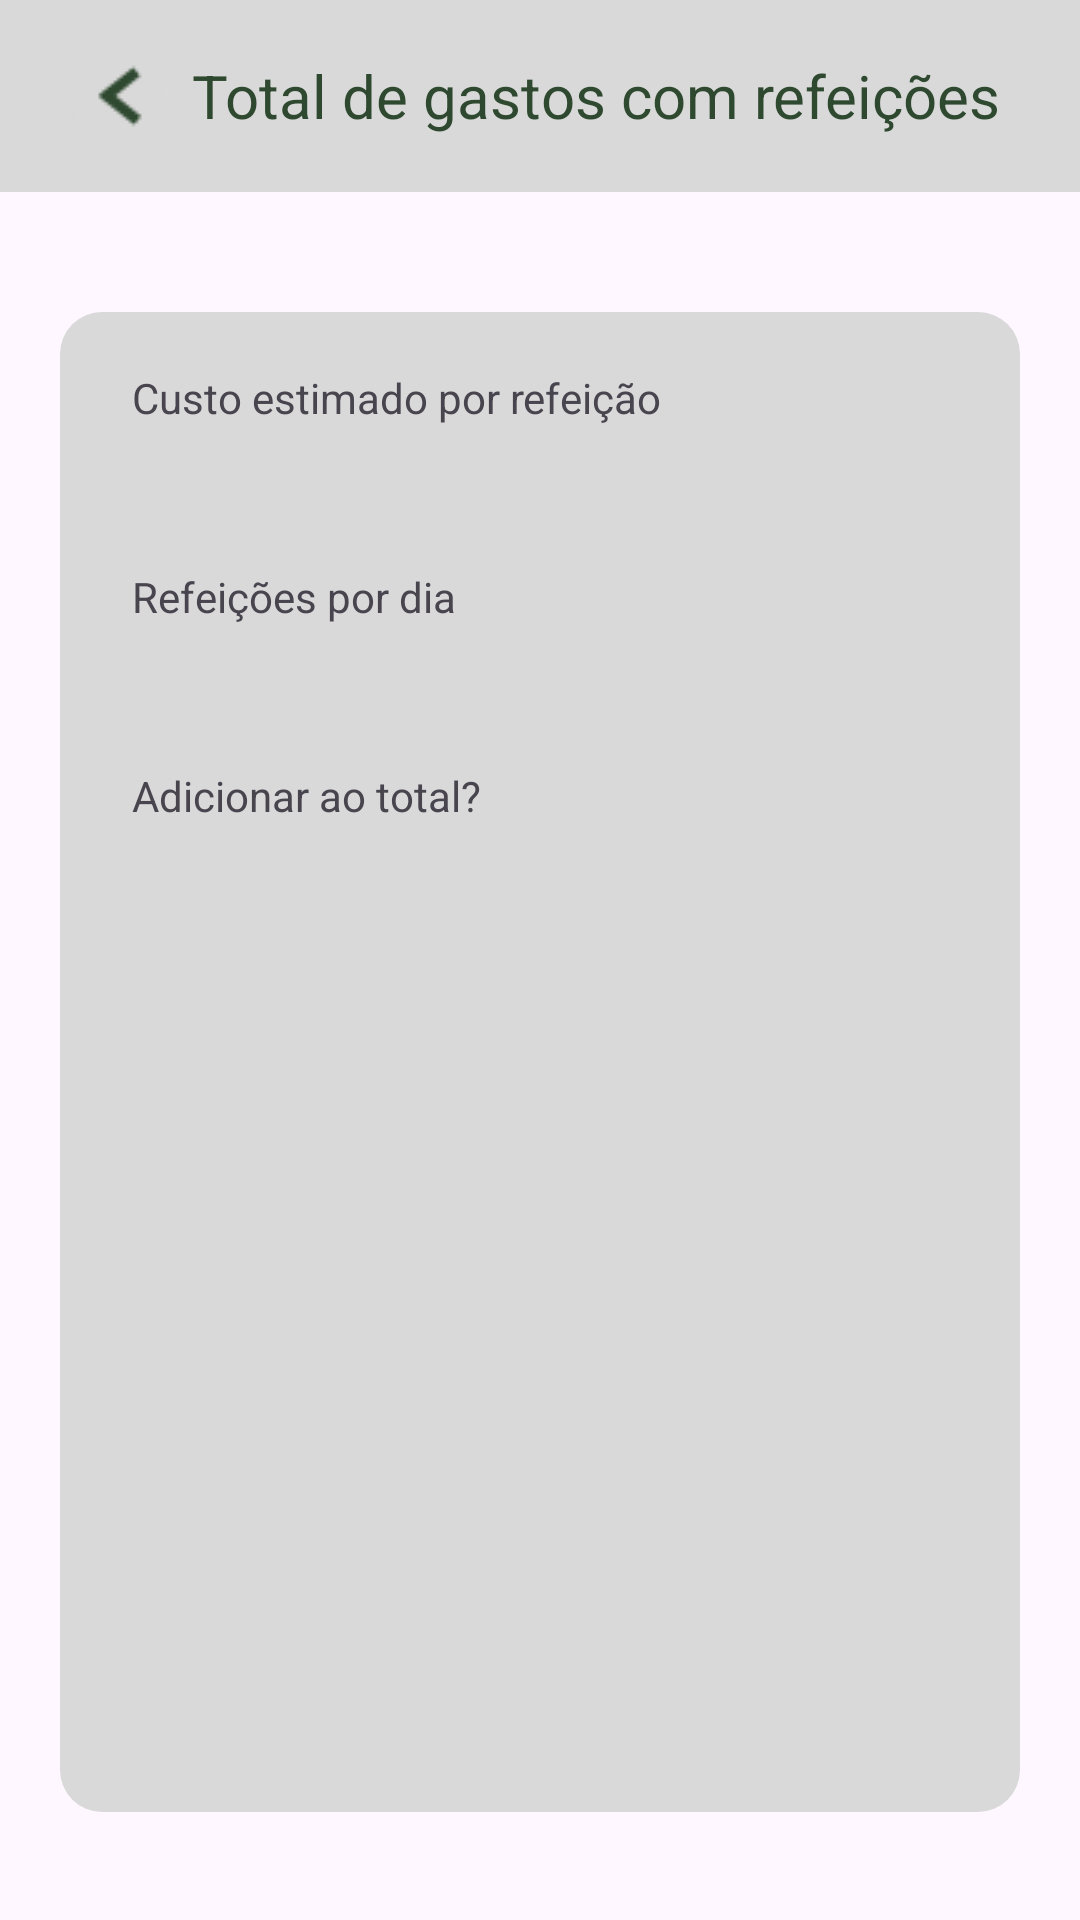

Where to tap for icons on this 1080px×1920px app screen, as (x=x, y=y):
Voltar: (x=120, y=96)
